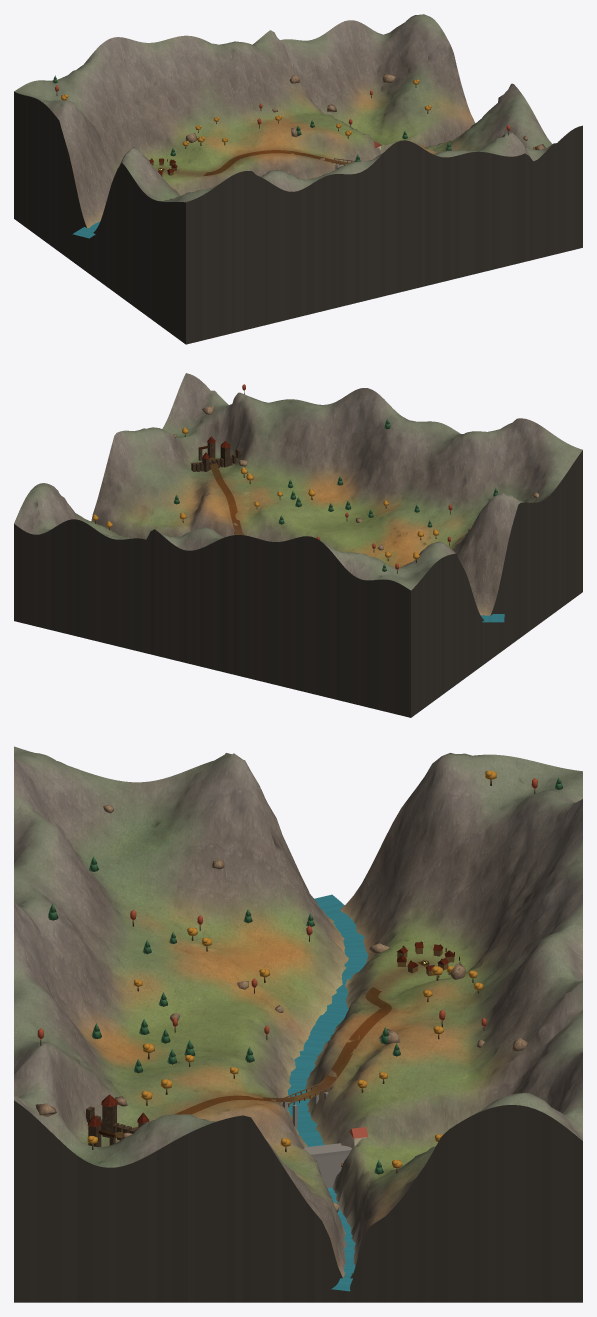
3 views of the same model, one above another, from view 1: azimuth 30°, elevation 25°; view 2: azimuth 150°, elevation 25°; view 3: azimuth 270°, elevation 25° (orthographic). The views are drawn at different scales.
Parts seen in each view (by area): view 1: edge_skirt, ground_valley, trees, walk_road, rocks; view 2: edge_skirt, ground_valley, trees, clifftown, walk_road; view 3: ground_valley, edge_skirt, water_river, trees, walk_road, rocks, clifftown, dam, village, walk_village_green.
Boxes of the visible parts, x1,y1,x2,y2 form: edge_skirt: (14,91,582,344); ground_valley: (14,14,564,228); trees: (53,75,535,177); walk_road: (160,150,350,176); rocks: (174,74,545,190); edge_skirt: (14,450,582,717); ground_valley: (14,373,582,615); trees: (92,384,498,573); clifftown: (191,436,240,471); walk_road: (209,458,243,535); ground_valley: (14,746,582,1277); edge_skirt: (14,1100,582,1302); water_river: (287,894,368,1291); trees: (37,770,562,1174); walk_road: (114,961,427,1137); rocks: (35,805,527,1212); clifftown: (86,1094,149,1147); dam: (303,1127,368,1187); village: (397,941,460,977); walk_village_green: (393,950,456,976).
Size of the model in its own units: 130 by 46 by 90.
Materials: 8 (5 with a texture image).
